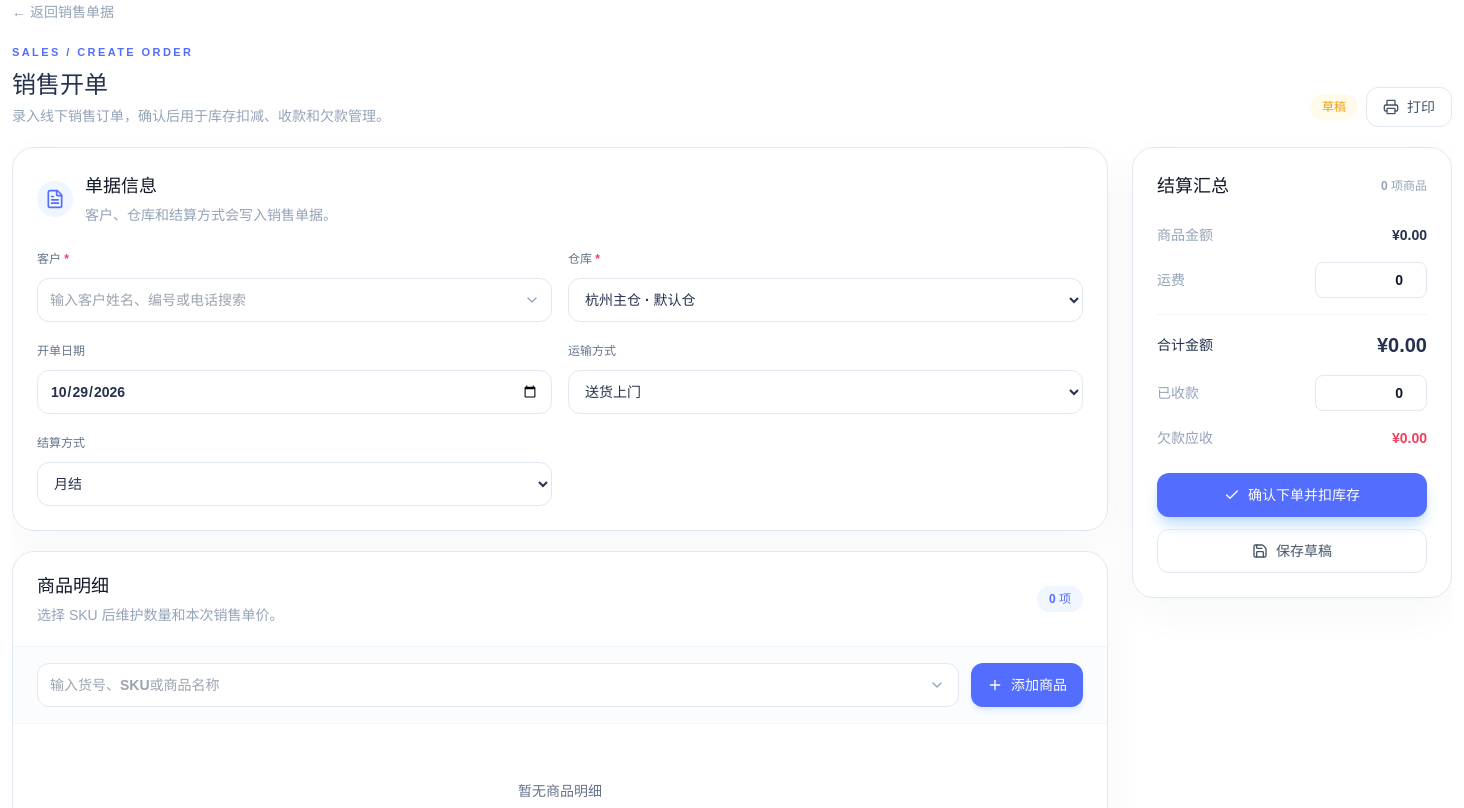
Test case: SalesCreateView › loads customer, warehouse, and SKU choices for a sales order
Expected: the element with test id "sales-create-page" shows "销售开单", [12,70,108,98]
Focus the dropdown with test id "sales-customer": (294, 300) [37,278,552,322]
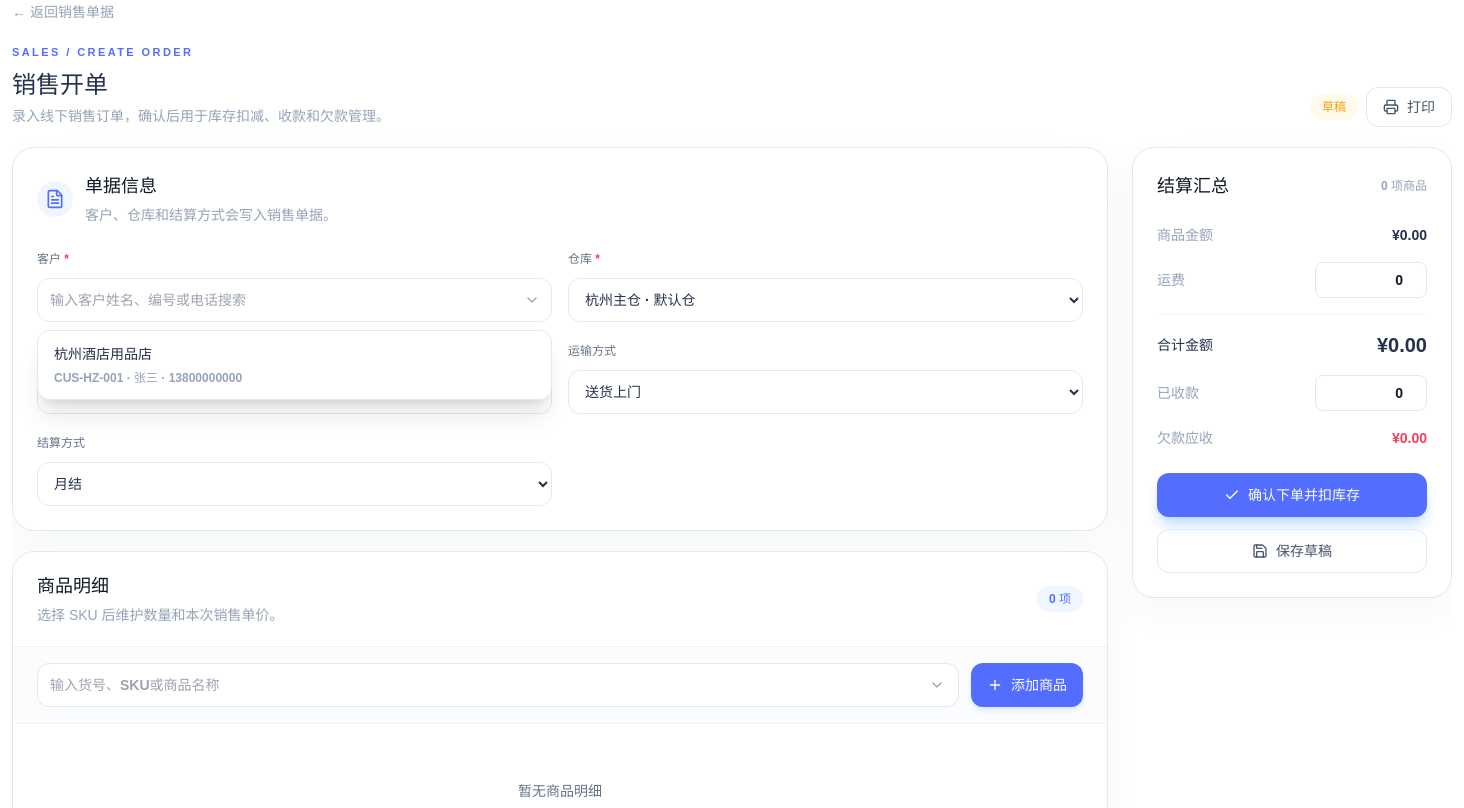
Expected: the dropdown with test id "sales-warehouse" shows "杭州主仓 · 默认仓", [568,278,1083,322]
Expected: the list with test id "sales-customer-options" shows "杭州酒店用品店", [42,334,547,394]
